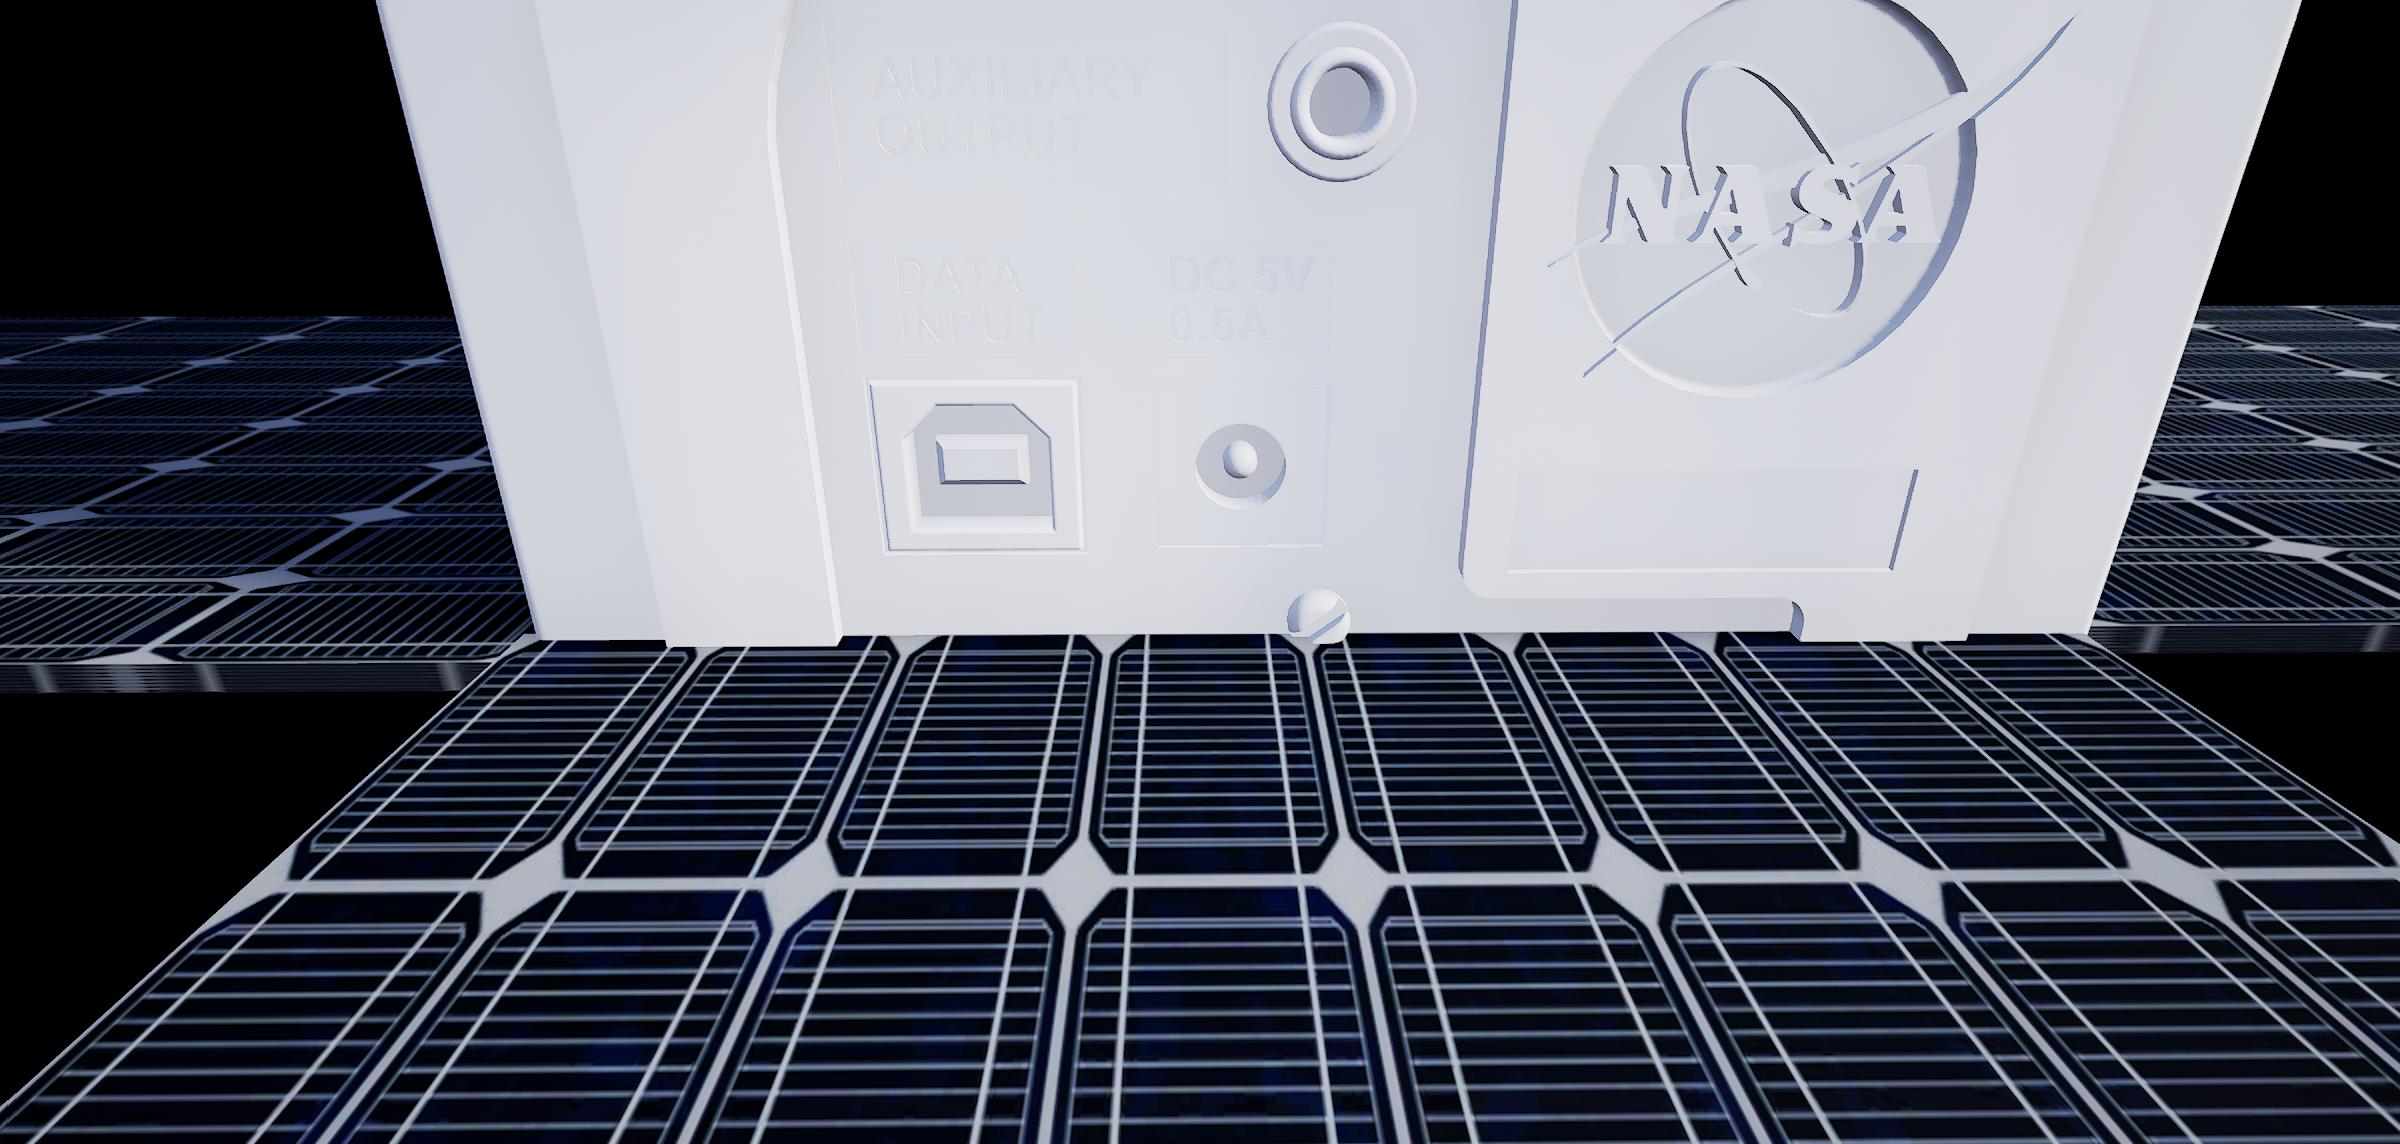aux: (1257, 20, 1433, 199)
dc: (1188, 413, 1293, 515)
usb: (892, 397, 1062, 539)
